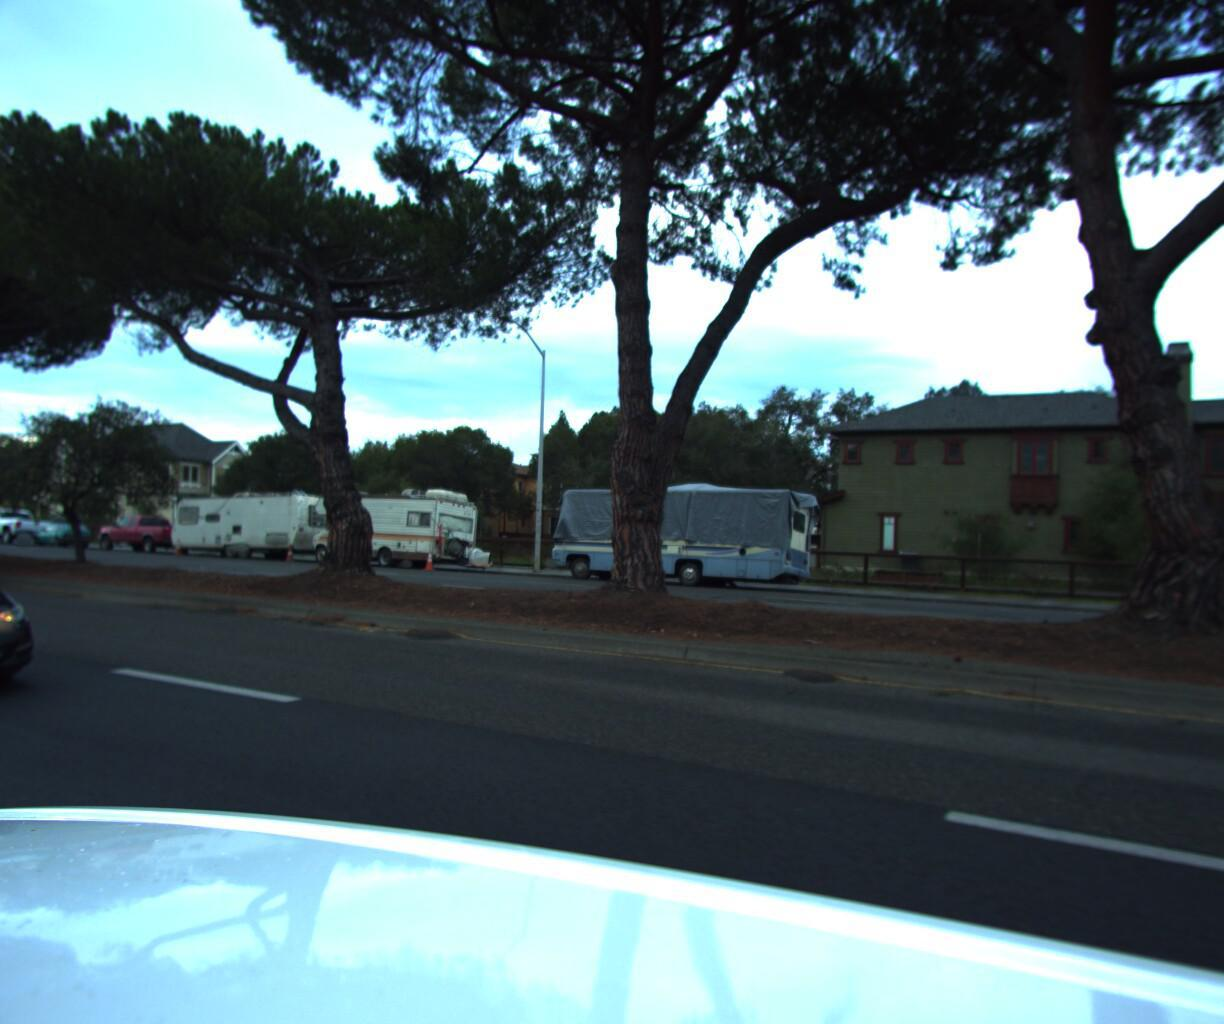bus: (539, 471, 827, 600)
car: (0, 509, 67, 736), (96, 507, 201, 550), (21, 508, 94, 544), (0, 500, 60, 542)
other_vehicle: (303, 482, 481, 571), (161, 480, 351, 559)
